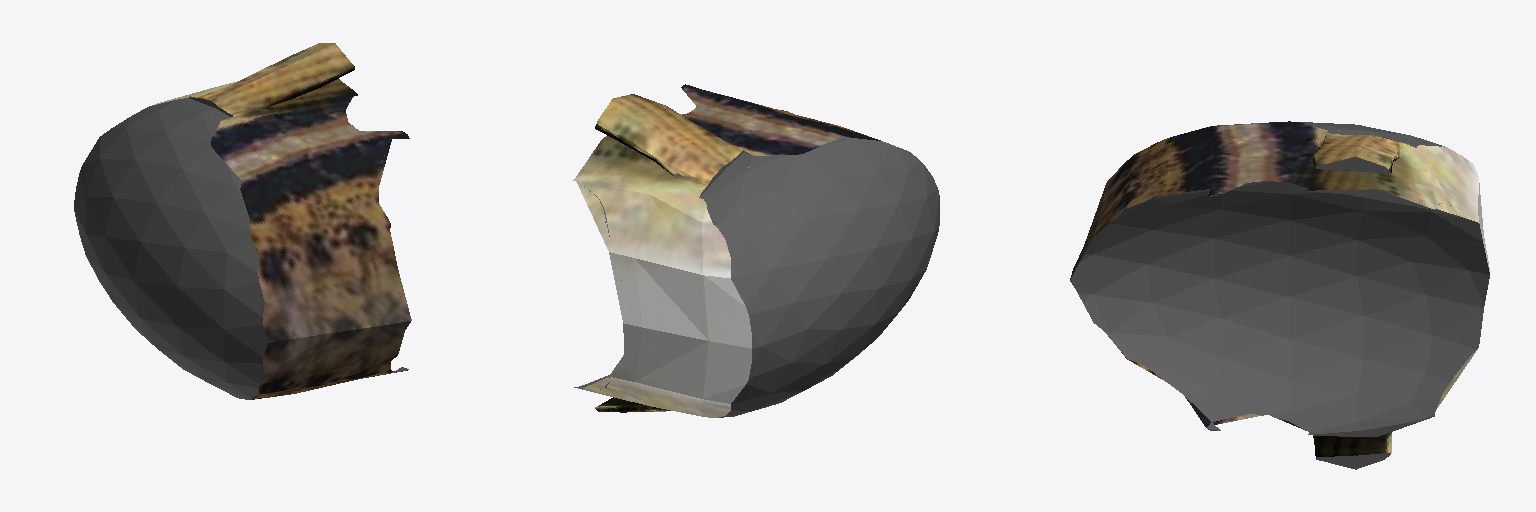
3 views of the same model, side by side, from view 1: azimuth 30°, elevation 25°; view 2: azimuth 150°, elevation 25°; view 3: azimuth 270°, elevation 25° (orthographic).
Size of the model in its own units: 0.002 by 0.0026 by 0.0031.
Materials: 1 (1 with a texture image).